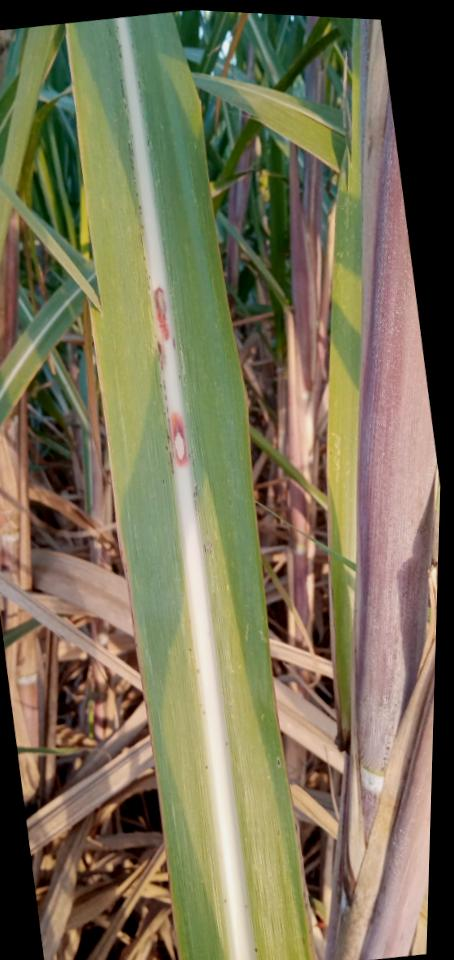RedRot: (171, 410, 189, 469), (154, 286, 170, 342), (158, 338, 165, 365)
Rust: (100, 17, 156, 295), (187, 449, 215, 558), (129, 26, 153, 153), (155, 360, 177, 478)
